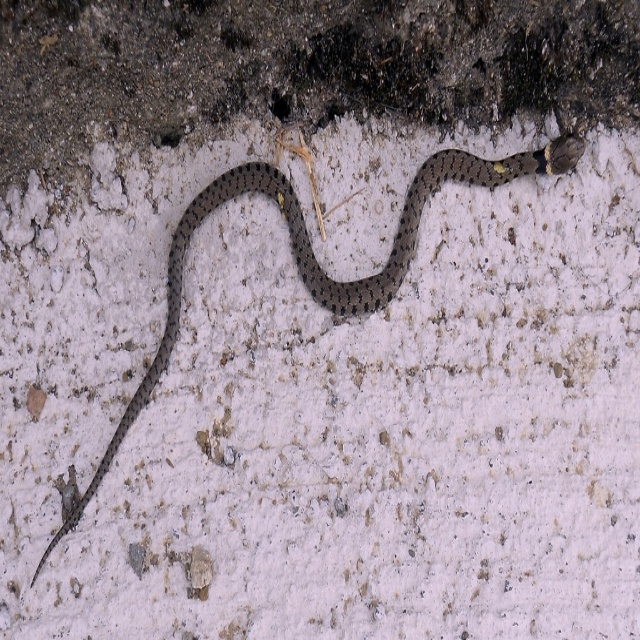Snake: (30, 132, 586, 590)
